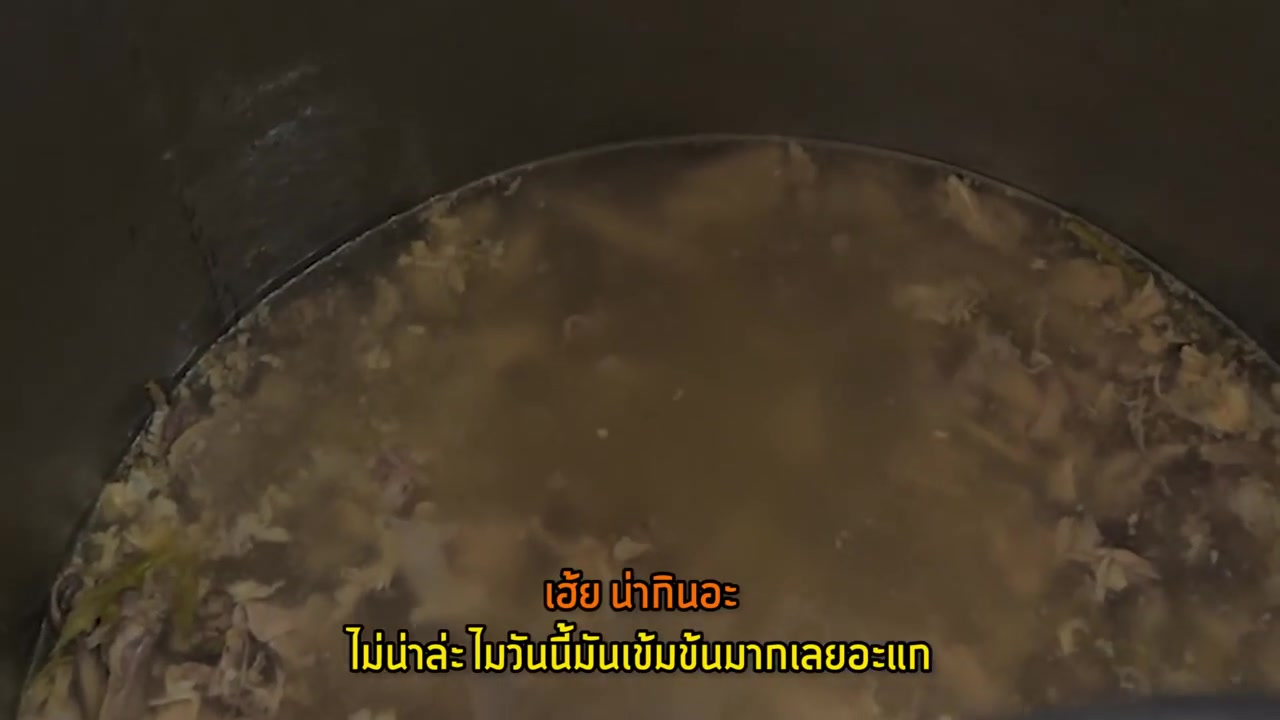text-label: (345, 620, 936, 679), (540, 567, 742, 616)
